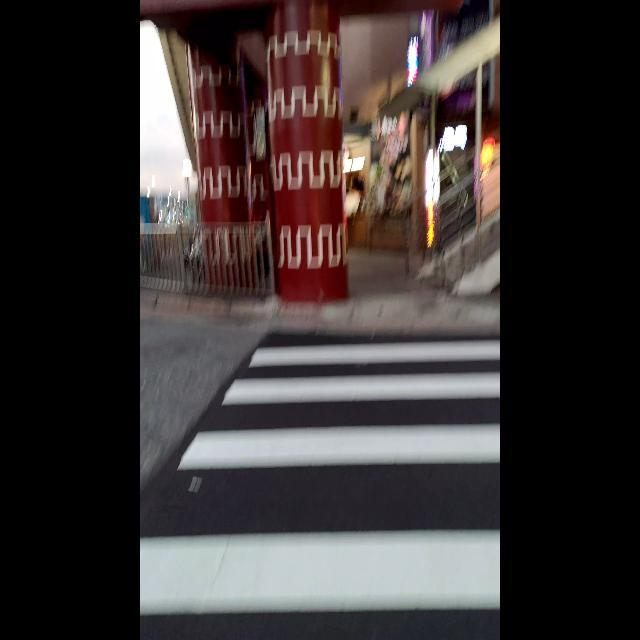sidewalk: (145, 330, 499, 614)
